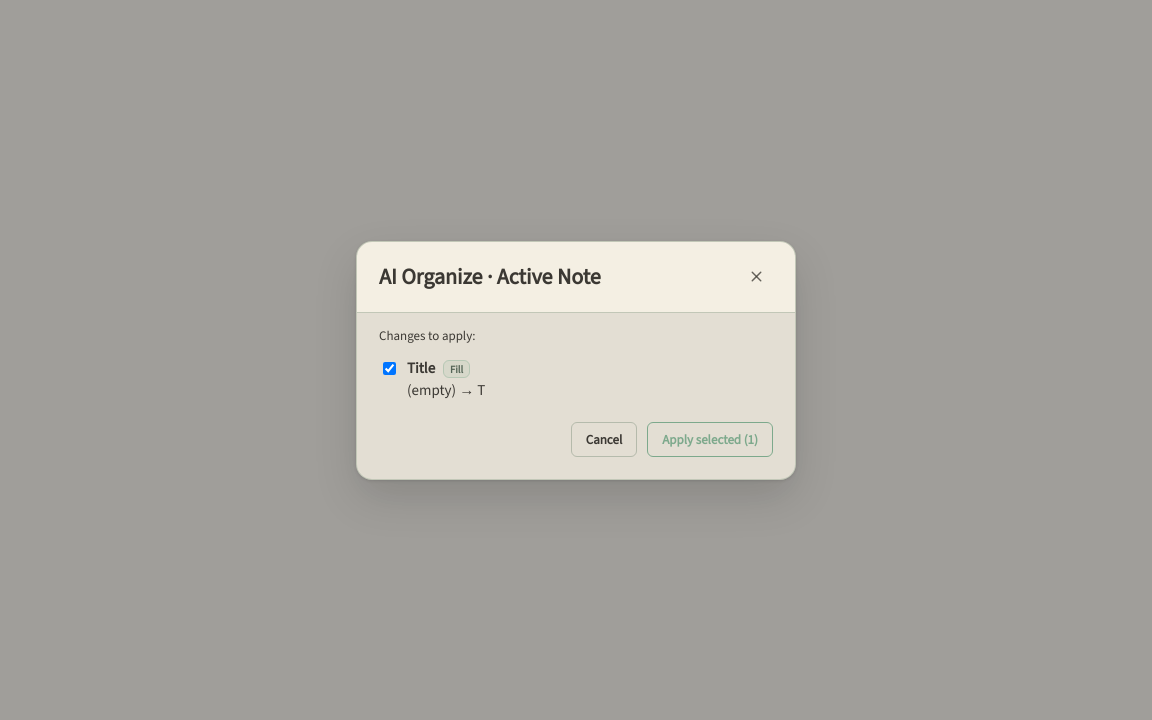
Test case: AiConfirmModal — field-level selection (W1, PLAN-2026-09-05 §1) › locks Apply while the request is running, then allows retry when it fails
Click the button "Apply selected (1)" at [710, 439], box [647,422,773,456]
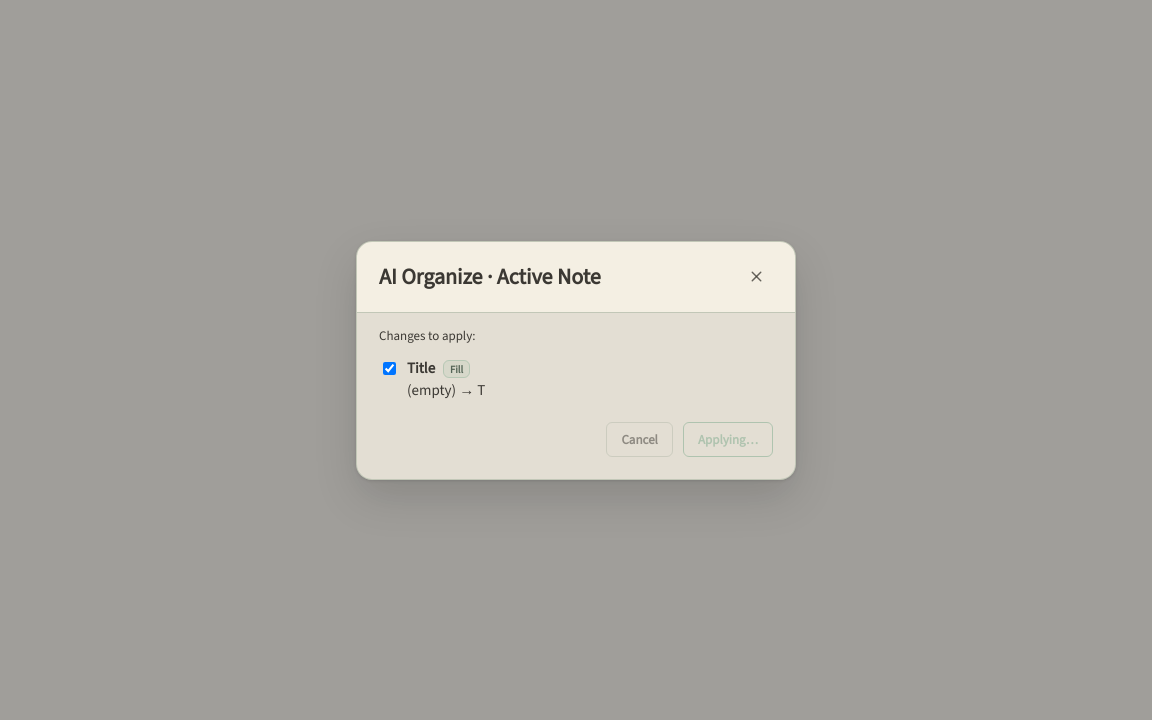
Now the button "Applying…" is disabled
Now the button "Applying…" is shown
Click the button "Applying…" at [728, 439], box [683,422,773,456]
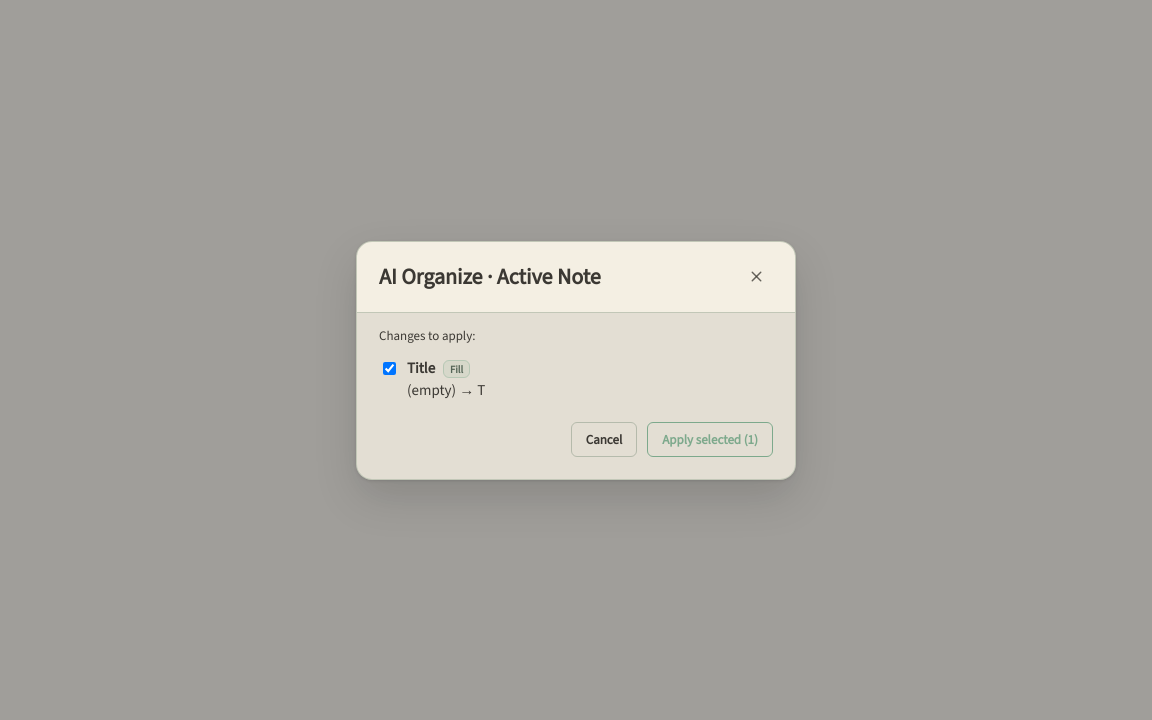
Now the button named "applying" is enabled, box [647,422,773,456]
